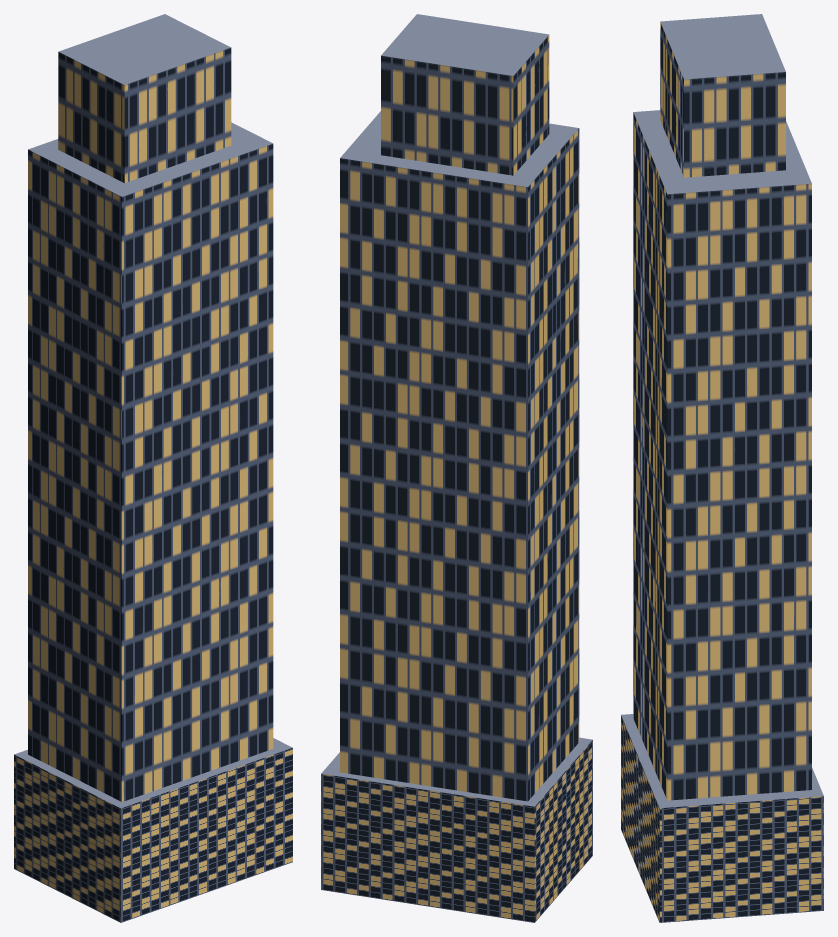
The model's file is 40-bank-street.glb.
The picture shows the model from 3 angles, left to right: view 1: azimuth 30°, elevation 25°; view 2: azimuth 150°, elevation 25°; view 3: azimuth 270°, elevation 25°; orthographic projection.
Parts seen in each view (by area): view 1: 40-bank-street; view 2: 40-bank-street; view 3: 40-bank-street.
Part boxes in pixels (x1,y1,x2,y2): 40-bank-street: (14,14,292,922); 40-bank-street: (321,14,592,922); 40-bank-street: (621,14,823,922).
Size of the model in its own units: 0.5697 by 2.06 by 0.4629.
2 materials, 1 textured.
